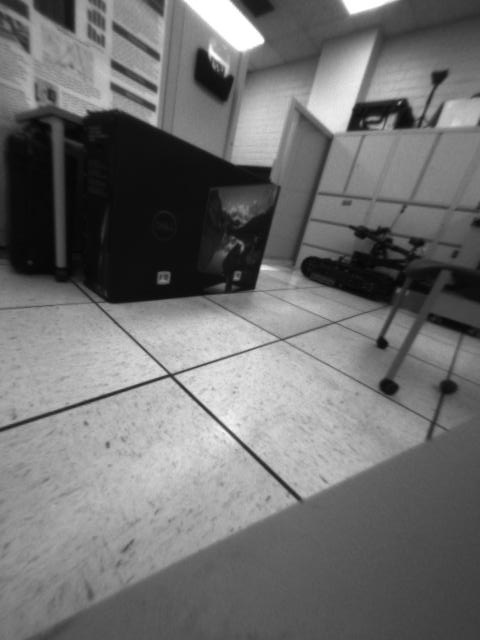dogtoy: (435, 372, 464, 403)
